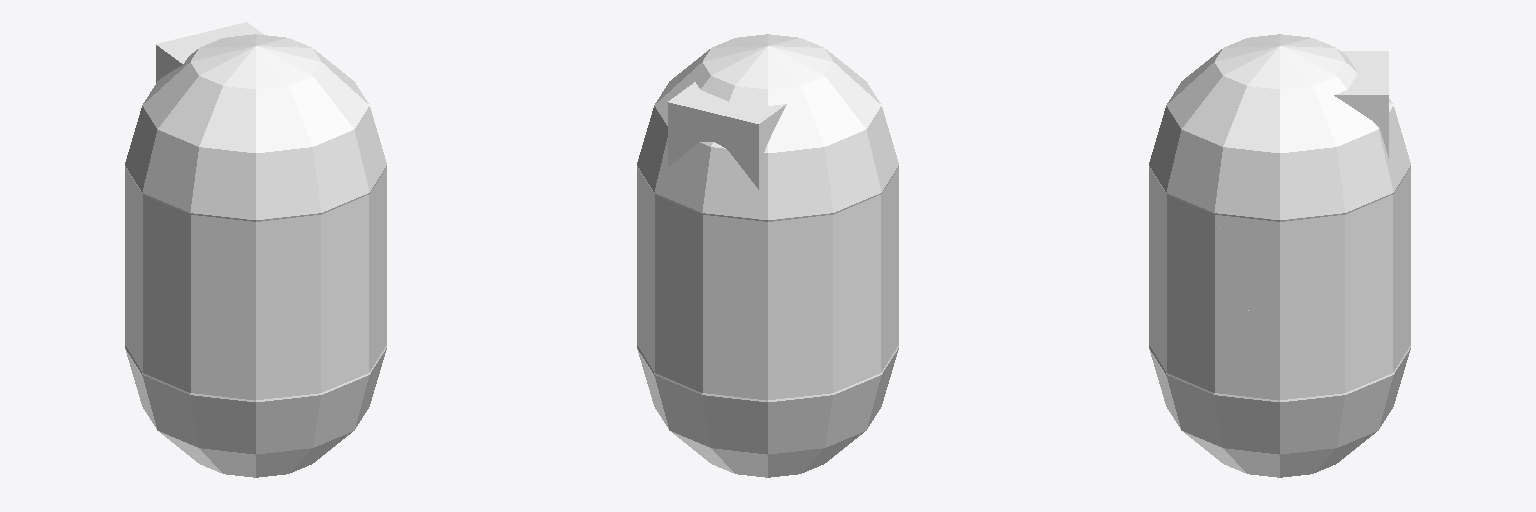
The model's file is robot_pill.obj.
3 views of the same model, side by side, from view 1: azimuth 30°, elevation 25°; view 2: azimuth 150°, elevation 25°; view 3: azimuth 270°, elevation 25° (orthographic).
Parts seen in each view (by area): view 1: CSGCombiner; view 2: CSGCombiner; view 3: CSGCombiner.
Boxes of the visible parts, box(x1,y1,x2,y2) form: CSGCombiner: box(125, 22, 386, 477); CSGCombiner: box(637, 34, 898, 477); CSGCombiner: box(1149, 34, 1410, 477).
Bounding box in the file's own units: 1.52 × 2.68 × 1.52.